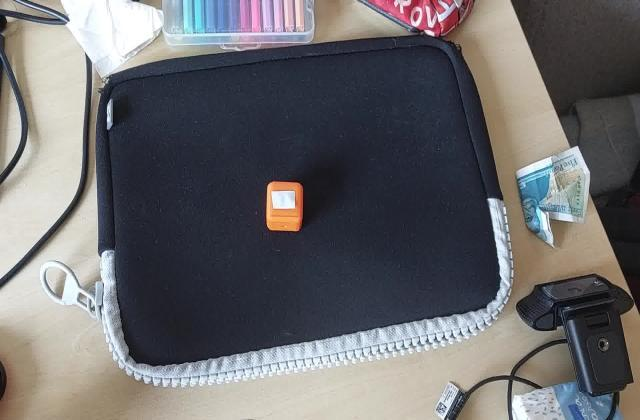sticker: (265, 182, 305, 234)
white: (268, 188, 299, 210)
